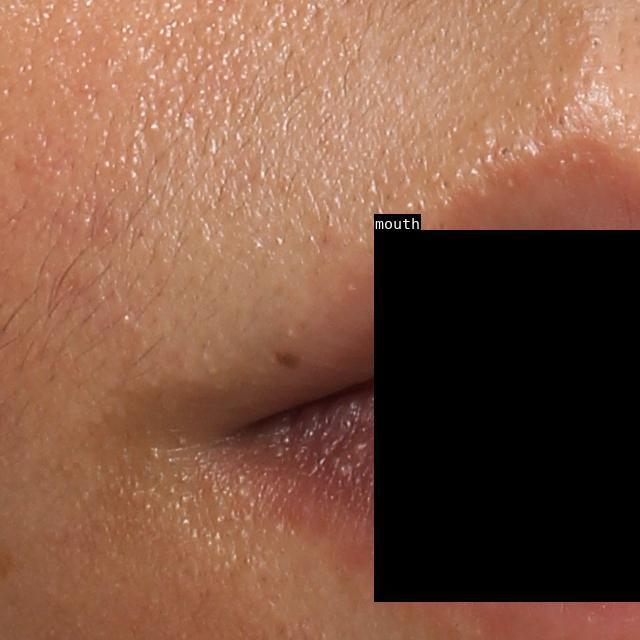nevus: (274, 348, 303, 371)
